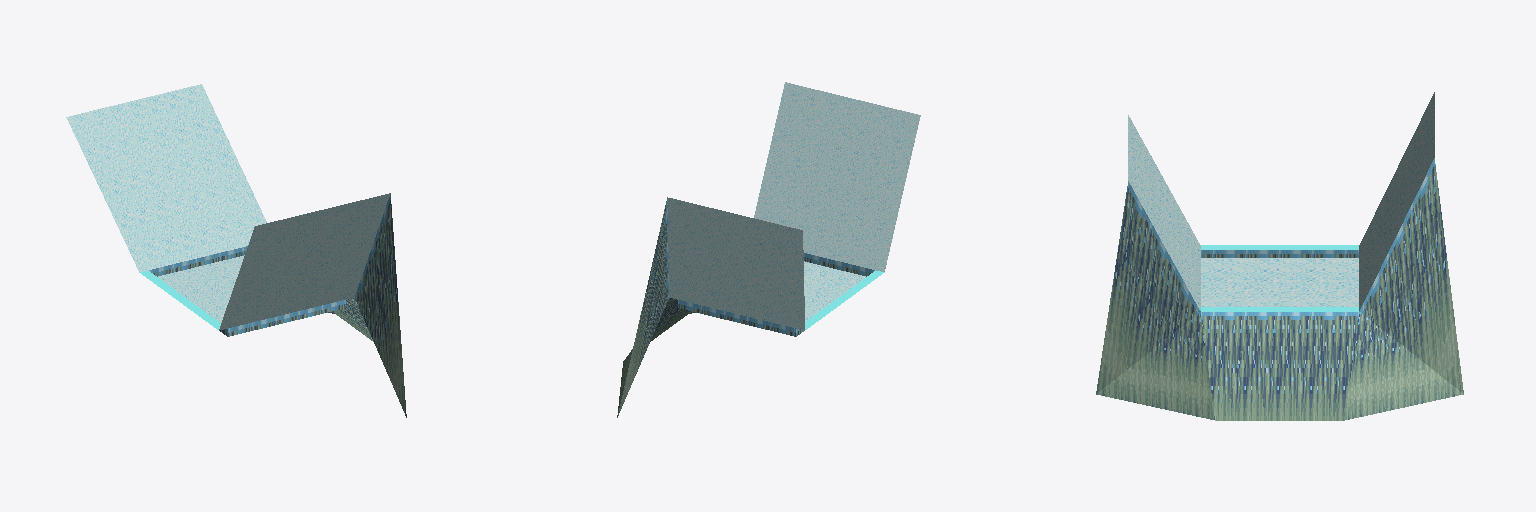
3 views of the same model, side by side, from view 1: azimuth 30°, elevation 25°; view 2: azimuth 150°, elevation 25°; view 3: azimuth 270°, elevation 25° (orthographic).
Parts seen in each view (by area): view 1: Nemu_7EE07A6D_0_134, Nemu_68B75ED7_0_135, Nemu_7EE07A6D_0_133, Nemu_0_0_140; view 2: Nemu_7EE07A6D_0_134, Nemu_68B75ED7_0_135, Nemu_7EE07A6D_0_133, Nemu_0_0_140; view 3: Nemu_68B75ED7_0_135, Nemu_7EE07A6D_0_134, Nemu_7EE07A6D_0_133, Nemu_0_0_140.
Part boxes in pixels (left/top/right/bottom): Nemu_7EE07A6D_0_134: left=66, top=84, right=390, bottom=330; Nemu_68B75ED7_0_135: left=149, top=194, right=406, bottom=417; Nemu_7EE07A6D_0_133: left=158, top=255, right=244, bottom=322; Nemu_0_0_140: left=139, top=270, right=220, bottom=329; Nemu_7EE07A6D_0_134: left=667, top=82, right=920, bottom=330; Nemu_68B75ED7_0_135: left=617, top=201, right=874, bottom=417; Nemu_7EE07A6D_0_133: left=804, top=261, right=865, bottom=321; Nemu_0_0_140: left=805, top=270, right=884, bottom=329; Nemu_68B75ED7_0_135: left=1096, top=158, right=1463, bottom=420; Nemu_7EE07A6D_0_134: left=1128, top=92, right=1434, bottom=310; Nemu_7EE07A6D_0_133: left=1201, top=258, right=1358, bottom=306; Nemu_0_0_140: left=1201, top=245, right=1358, bottom=311.
Size of the model in its own units: 2484 by 2316 by 3520.
Materials: 3 (2 with a texture image).